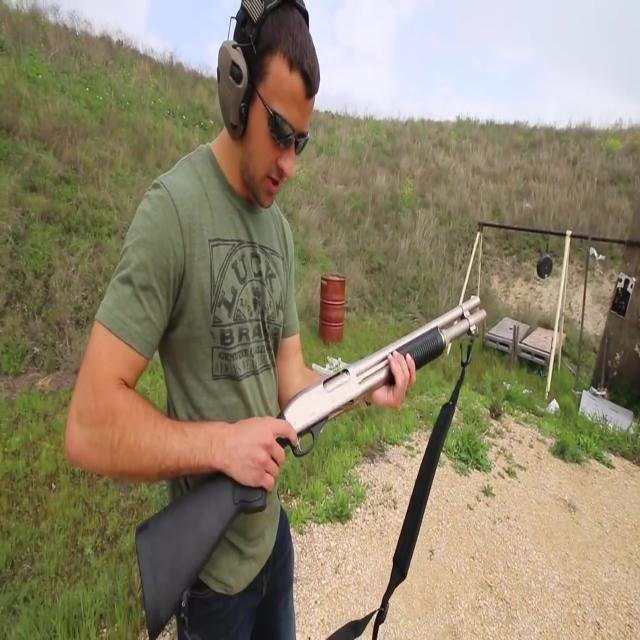Weapon: (121, 268, 497, 640)
